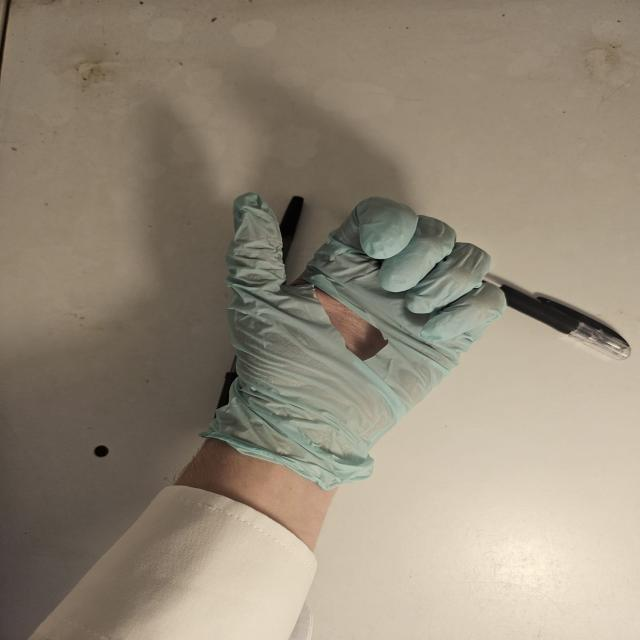gloves_damaged: (210, 189, 512, 483)
